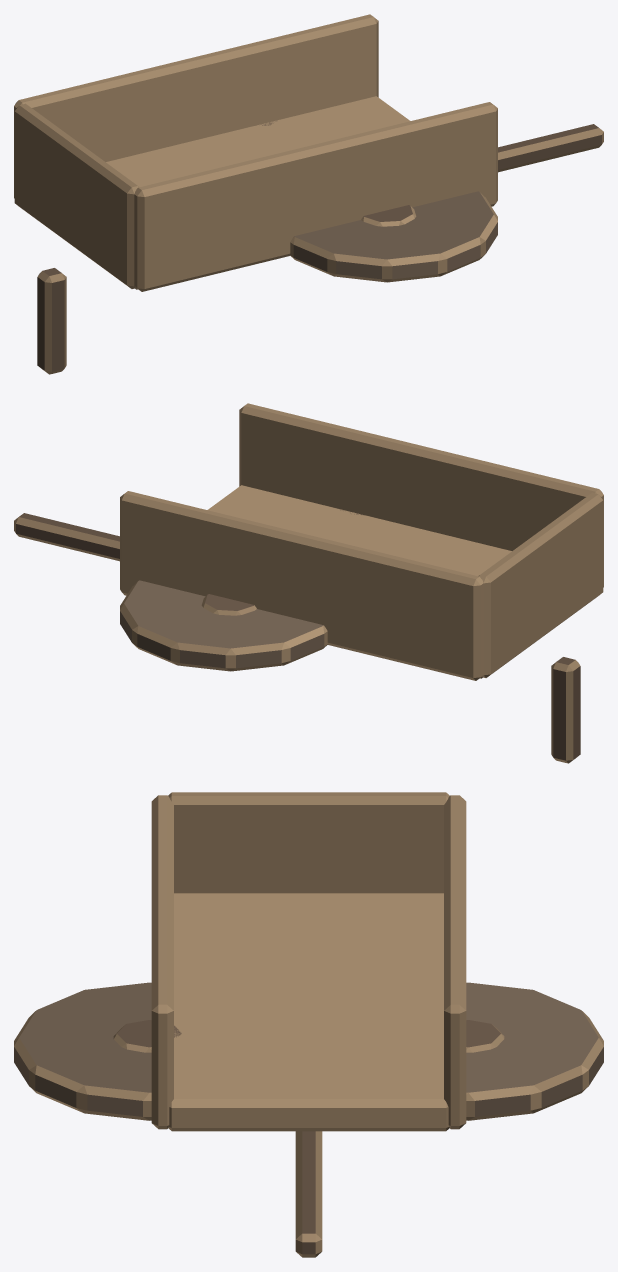
File: SM_Kit_carroca.fbx
The picture shows the model from 3 angles, top to bottom: view 1: azimuth 30°, elevation 25°; view 2: azimuth 150°, elevation 25°; view 3: azimuth 270°, elevation 25°; orthographic projection. The views are drawn at different scales.
Visible parts, largest first — view 1: SM_Kit_carroca; view 2: SM_Kit_carroca; view 3: SM_Kit_carroca.
Part boxes in pixels (x1,y1,x2,y2): SM_Kit_carroca: [14, 14, 603, 374]; SM_Kit_carroca: [14, 403, 603, 763]; SM_Kit_carroca: [14, 792, 603, 1257].
Size of what is drawn, in the model's own units: 357 by 133 by 266.
